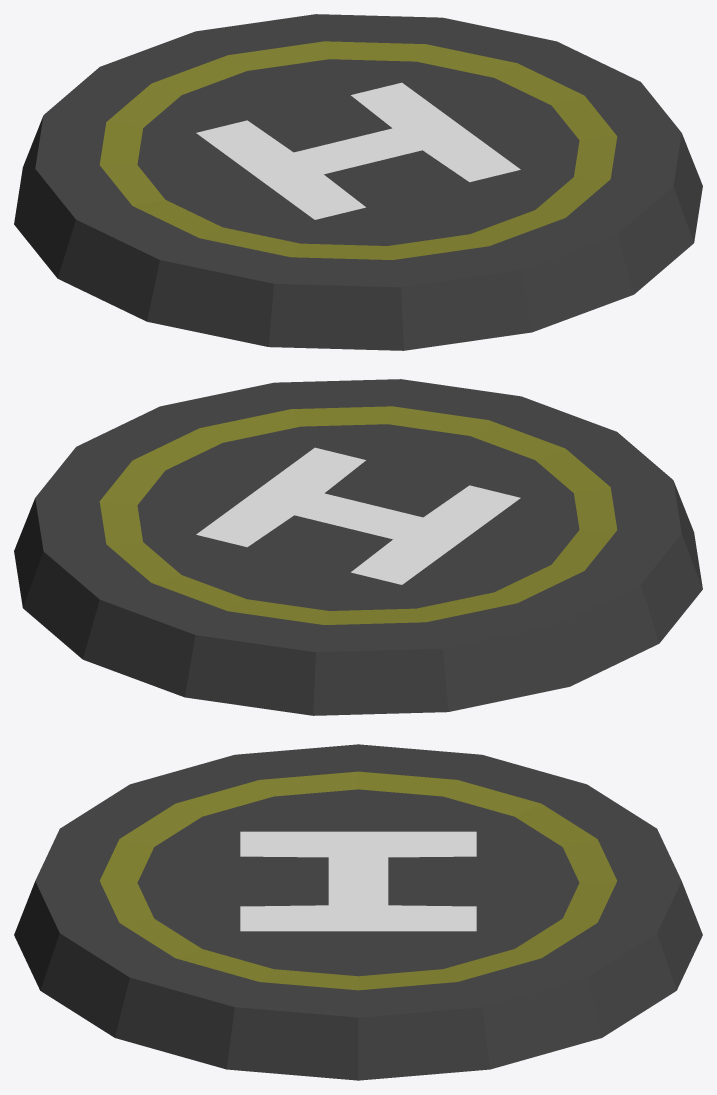
Rendered from airport.fbx.
3 renders of one model, top to bottom at view 1: azimuth 30°, elevation 25°; view 2: azimuth 150°, elevation 25°; view 3: azimuth 270°, elevation 25°, orthographic.
Visible parts, largest first — view 1: Base; view 2: Base; view 3: Base.
Part boxes in pixels (x1,y1,x2,y2): Base: [14, 14, 702, 350]; Base: [14, 379, 702, 715]; Base: [14, 744, 702, 1080].
Bounding box in the file's own units: 84.38 × 7.31 × 84.38.
